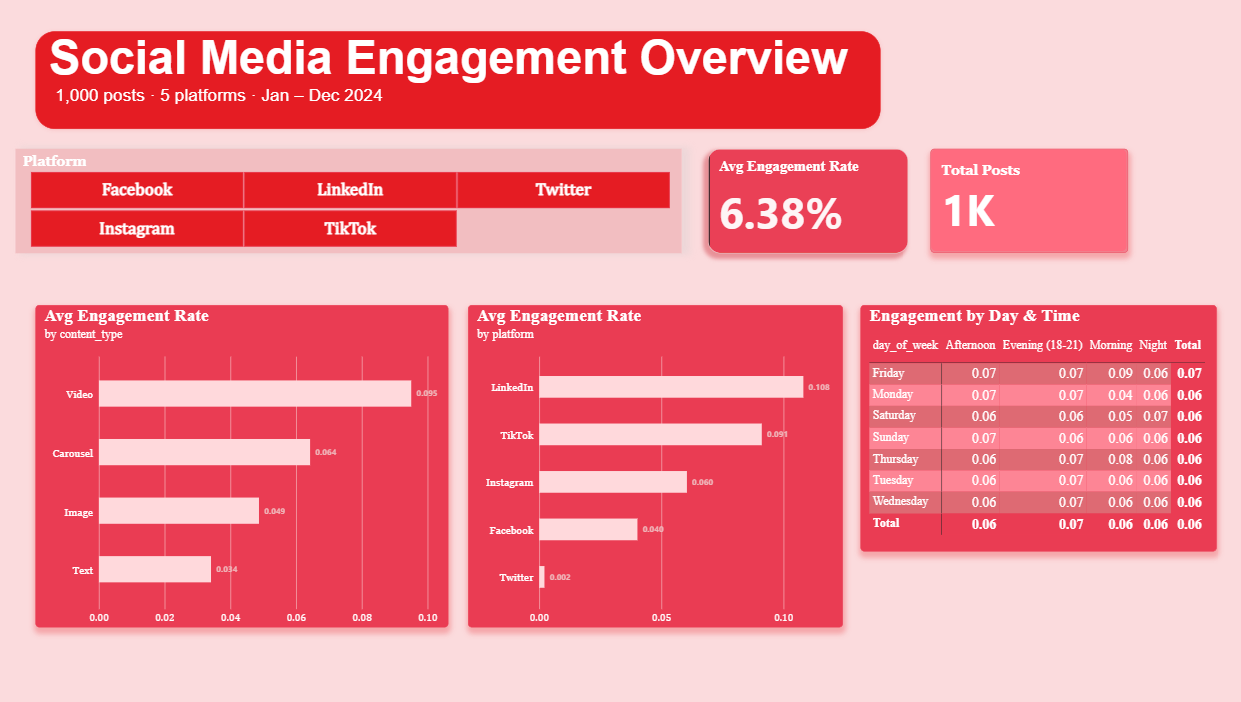

This screenshot's page, from the dashboard's own definition file:
{"tool":"powerbi","page":{"name":"Page 1","canvas":[1920,1080],"ordinal":0},"visuals":[{"type":"cardVisual","fields":{"Data":["social_media_engagement.Avg Engagement Rate"]},"box":[1091.7,229.2,308.3,160.4],"z":0},{"type":"clusteredBarChart","fields":{"Category":["social_media_engagement.platform"],"Y":["social_media_engagement.Avg Engagement Rate"]},"box":[722.9,468.8,577.1,495.8],"z":1000},{"type":"clusteredBarChart","fields":{"Category":["social_media_engagement.content_type"],"Y":["social_media_engagement.Avg Engagement Rate"]},"box":[58.3,468.8,635.4,495.8],"z":2000},{"type":"pivotTable","title":"Engagement by Day & Time ","fields":{"Columns":["social_media_engagement.Time Sloot"],"Rows":["social_media_engagement.day_of_week"],"Values":["social_media_engagement.Avg Engagement Rate"]},"box":[1327.1,468.8,547.9,379.2],"z":3000},{"type":"slicer","fields":{"Values":["social_media_engagement.platform"]},"box":[27.1,229.2,1025,160.4],"z":4000},{"type":"textbox","box":[58.3,47.9,1300,150],"z":5000},{"type":"cardVisual","fields":{"Data":["social_media_engagement.Total Posts"]},"box":[1434.6,228.8,303.8,159.6],"z":6000}]}

Visuals, with their boxes in screenshot pixels (x1, y1, x2, y2), scaled from the page's 1920x1080 canvas onto the 1241x702 screenshot:
cardVisual - social_media_engagement.Avg Engagement Rate: <region>706, 149, 905, 253</region>
clusteredBarChart - social_media_engagement.platform x social_media_engagement.Avg Engagement Rate: <region>467, 305, 840, 627</region>
clusteredBarChart - social_media_engagement.content_type x social_media_engagement.Avg Engagement Rate: <region>38, 305, 448, 627</region>
"Engagement by Day & Time " pivotTable: <region>858, 305, 1212, 551</region>
slicer - social_media_engagement.platform: <region>18, 149, 680, 253</region>
textbox: <region>38, 31, 878, 129</region>
cardVisual - social_media_engagement.Total Posts: <region>927, 149, 1124, 252</region>
